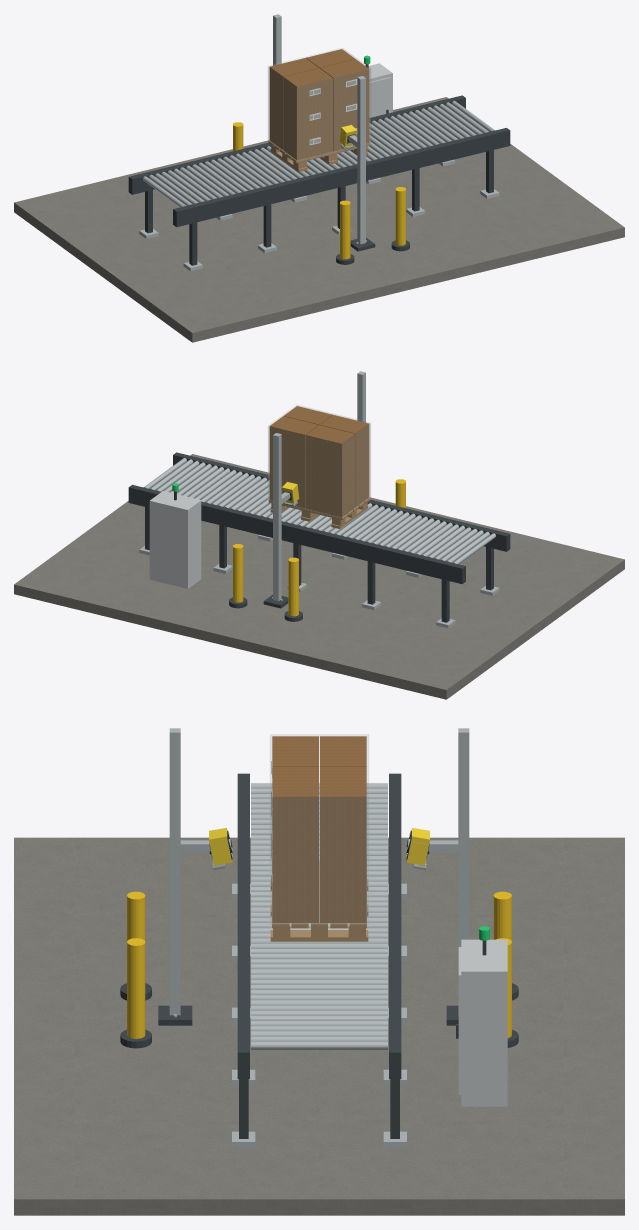
The picture shows the model from 3 angles, top to bottom: view 1: azimuth 30°, elevation 25°; view 2: azimuth 150°, elevation 25°; view 3: azimuth 270°, elevation 25°; orthographic projection. The views are drawn at different scales.
Parts seen in each view (by area): view 1: Floor, Conveyor side frame, Stretch film side, Stretch film end, Load carton.008, Conveyor side frame.001, Reader post, Load carton, Load carton.010, Load carton.004, Load carton.009, Cabinet door (+4 smaller); view 2: Floor, Conveyor side frame.001, Controller cabinet, Stretch film side.001, Stretch film end, Load carton.009, Conveyor side frame, Reader post.001, Load carton.011, Load carton.001, Load carton.005, Load carton.008 (+4 smaller); view 3: Floor, Stretch film end.001, Controller cabinet, Conveyor side frame, Conveyor side frame.001, Reader post, Load carton.010, Load carton.011, Reader post.001, Load carton.006, Load carton.007, Load carton.002 (+28 smaller).
Part boxes in pixels (bbox=[...]): Floor: bbox=[14, 97, 624, 342]; Conveyor side frame: bbox=[173, 128, 510, 227]; Stretch film side: bbox=[297, 69, 370, 161]; Stretch film end: bbox=[268, 66, 296, 160]; Load carton.008: bbox=[283, 68, 332, 111]; Conveyor side frame.001: bbox=[128, 95, 465, 194]; Reader post: bbox=[357, 76, 365, 244]; Load carton: bbox=[283, 126, 332, 160]; Load carton.010: bbox=[320, 59, 369, 102]; Load carton.004: bbox=[283, 102, 332, 135]; Load carton.009: bbox=[269, 58, 318, 100]; Cabinet door: bbox=[369, 77, 391, 117]; Floor: bbox=[14, 454, 624, 699]; Conveyor side frame.001: bbox=[128, 485, 465, 584]; Controller cabinet: bbox=[149, 491, 201, 588]; Stretch film side.001: bbox=[268, 426, 341, 518]; Stretch film end: bbox=[342, 423, 370, 517]; Load carton.009: bbox=[306, 425, 355, 468]; Conveyor side frame: bbox=[173, 452, 510, 551]; Reader post.001: bbox=[273, 433, 281, 601]; Load carton.011: bbox=[269, 416, 318, 459]; Load carton.001: bbox=[306, 483, 355, 517]; Load carton.005: bbox=[306, 459, 355, 492]; Load carton.008: bbox=[320, 415, 369, 457]; Floor: bbox=[14, 837, 624, 1215]; Stretch film end.001: bbox=[270, 797, 368, 924]; Controller cabinet: bbox=[461, 939, 507, 1106]; Conveyor side frame: bbox=[237, 773, 249, 1079]; Conveyor side frame.001: bbox=[389, 773, 401, 1079]; Reader post: bbox=[169, 728, 180, 1015]; Load carton.010: bbox=[272, 766, 318, 838]; Load carton.011: bbox=[320, 766, 366, 838]; Reader post.001: bbox=[458, 728, 469, 1014]; Load carton.006: bbox=[272, 838, 318, 880]; Load carton.007: bbox=[320, 838, 366, 880]; Load carton.002: bbox=[272, 881, 318, 922].
Bounding box in the file's own units: 7 × 2.75 × 5.
Materials: 19 (2 with a texture image).
